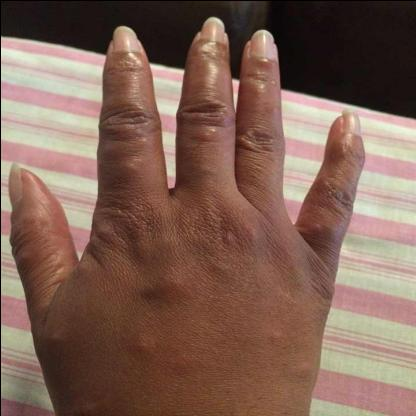Bed Bug: (98, 104, 153, 180), (127, 270, 200, 306), (90, 207, 128, 255), (214, 220, 260, 256), (192, 56, 225, 94), (166, 348, 200, 374), (69, 397, 107, 415), (122, 332, 152, 354), (32, 296, 64, 316), (40, 326, 66, 348), (12, 247, 40, 266), (265, 326, 289, 348), (306, 218, 330, 240), (193, 123, 216, 145), (70, 261, 93, 278)
